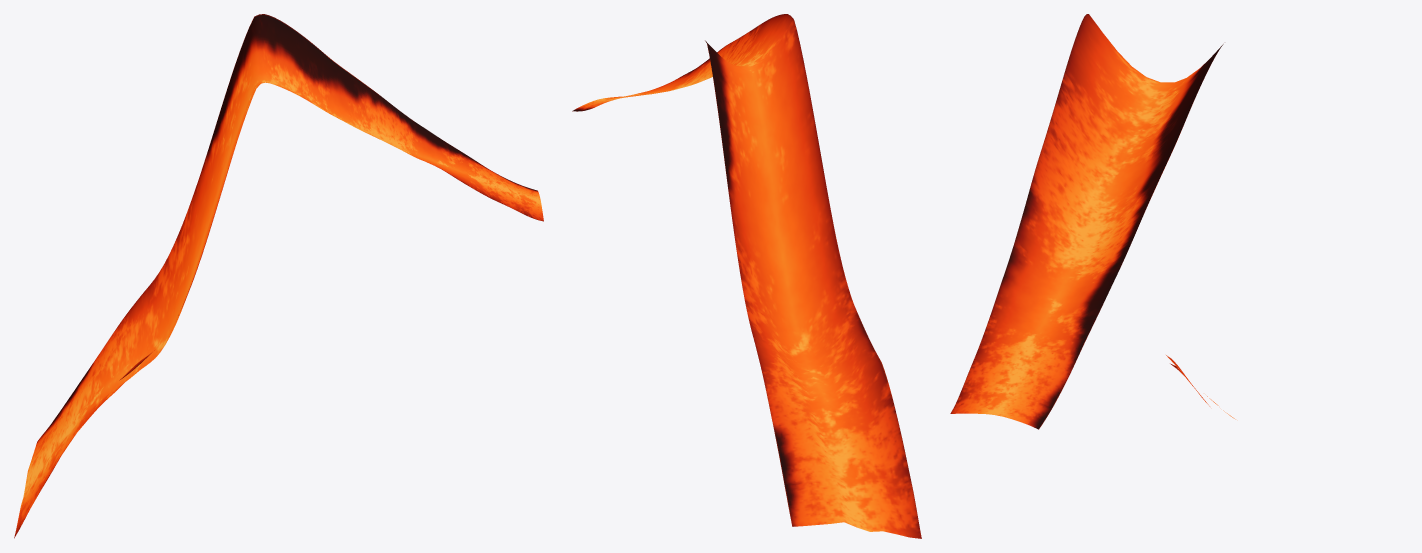
File: flow_0_0.glb
3 renders of one model, left to right at view 1: azimuth 30°, elevation 25°; view 2: azimuth 150°, elevation 25°; view 3: azimuth 270°, elevation 25°, orthographic. The views are drawn at different scales.
Size of the model in its own units: 19.91 by 19.98 by 12.62.
